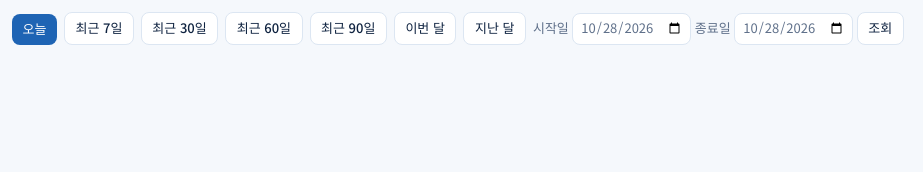
Test case: PeriodPicker › 유효한 직접 입력은 쿼리로 반영한다
Type "2026-10-01" into the date field labelled "시작일".
click(632, 29); type("2026-10-01")  # box [572, 13, 691, 45]
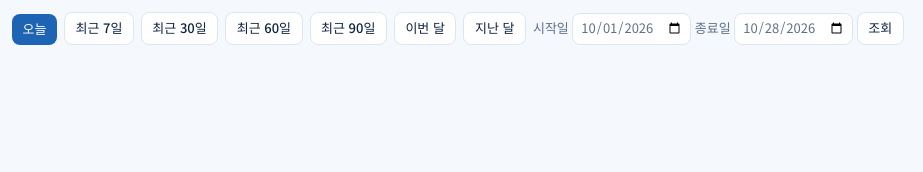
Type "2026-10-07" into the date field labelled "종료일".
click(794, 29); type("2026-10-07")  # box [734, 13, 853, 45]
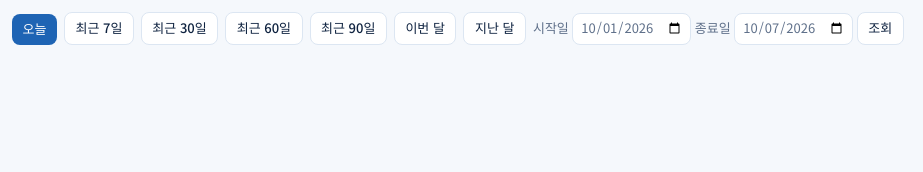
Click the button "조회".
click(880, 29)  # box [857, 12, 904, 45]
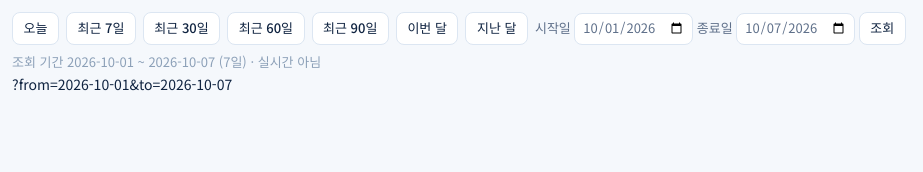
expect the text with test id "search" reads "?from=2026-10-01&to=2026-10-07": met, box [12, 74, 232, 94]
